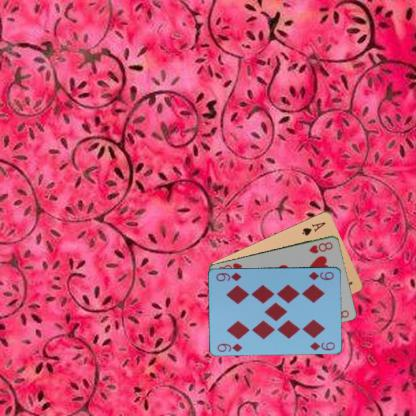8h: (306, 239, 334, 254)
9d: (215, 340, 244, 353), (306, 269, 335, 281)
As: (299, 219, 327, 237)
